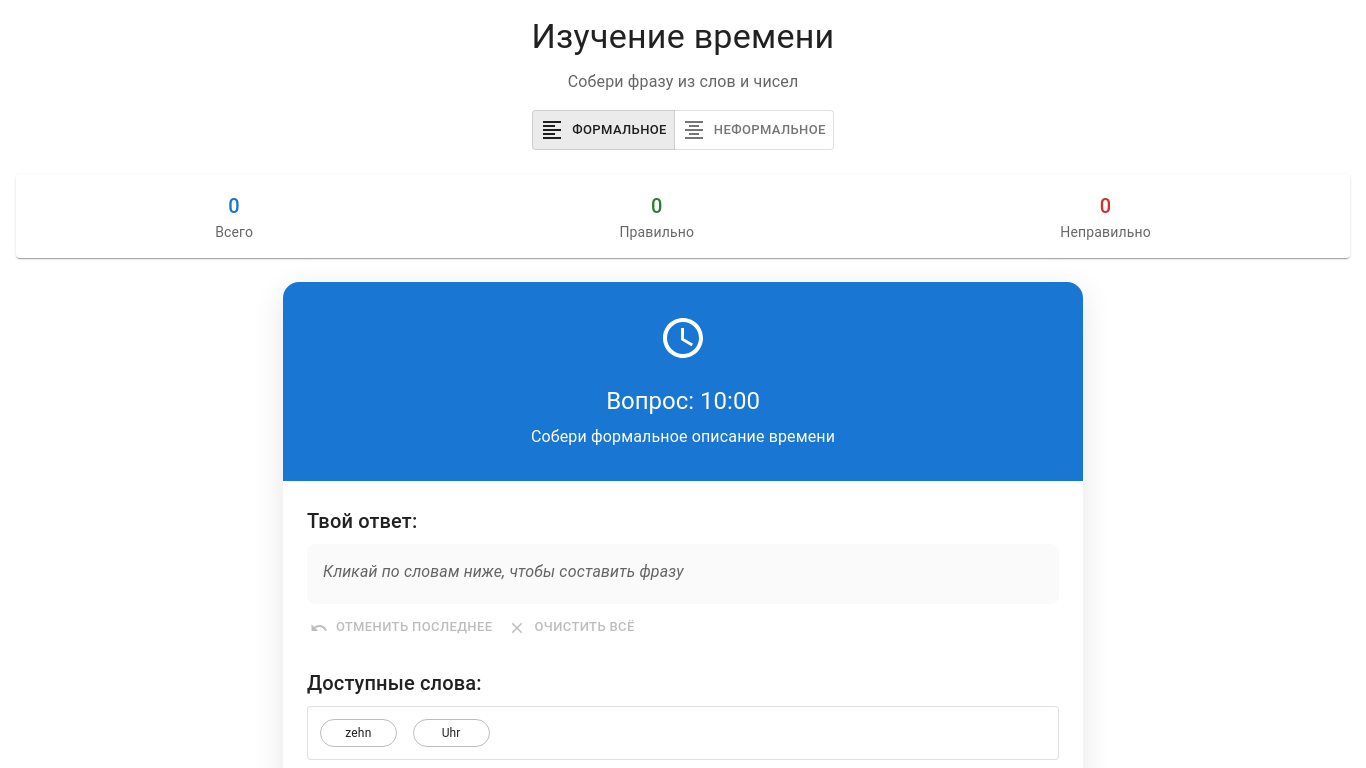
Test: TimeTraining statistics and request ordering › request error leaves stats unchanged
Expected: the heading "Вопрос: 10:00" is shown, [606,387,760,415]
Click the button "zehn".
click(358, 733)  # box [320,719,397,747]
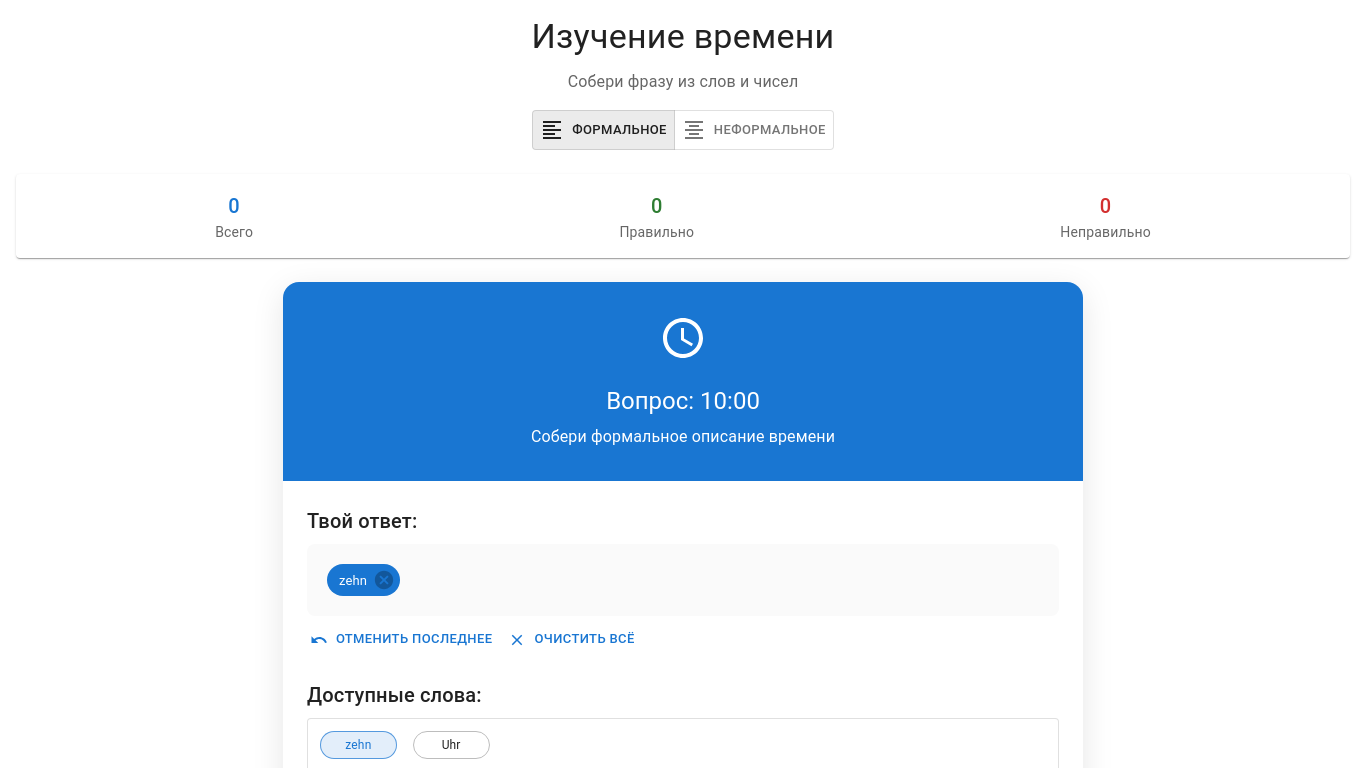
Click the button "Uhr".
click(451, 745)  # box [413,731,490,759]
(page scrolled)
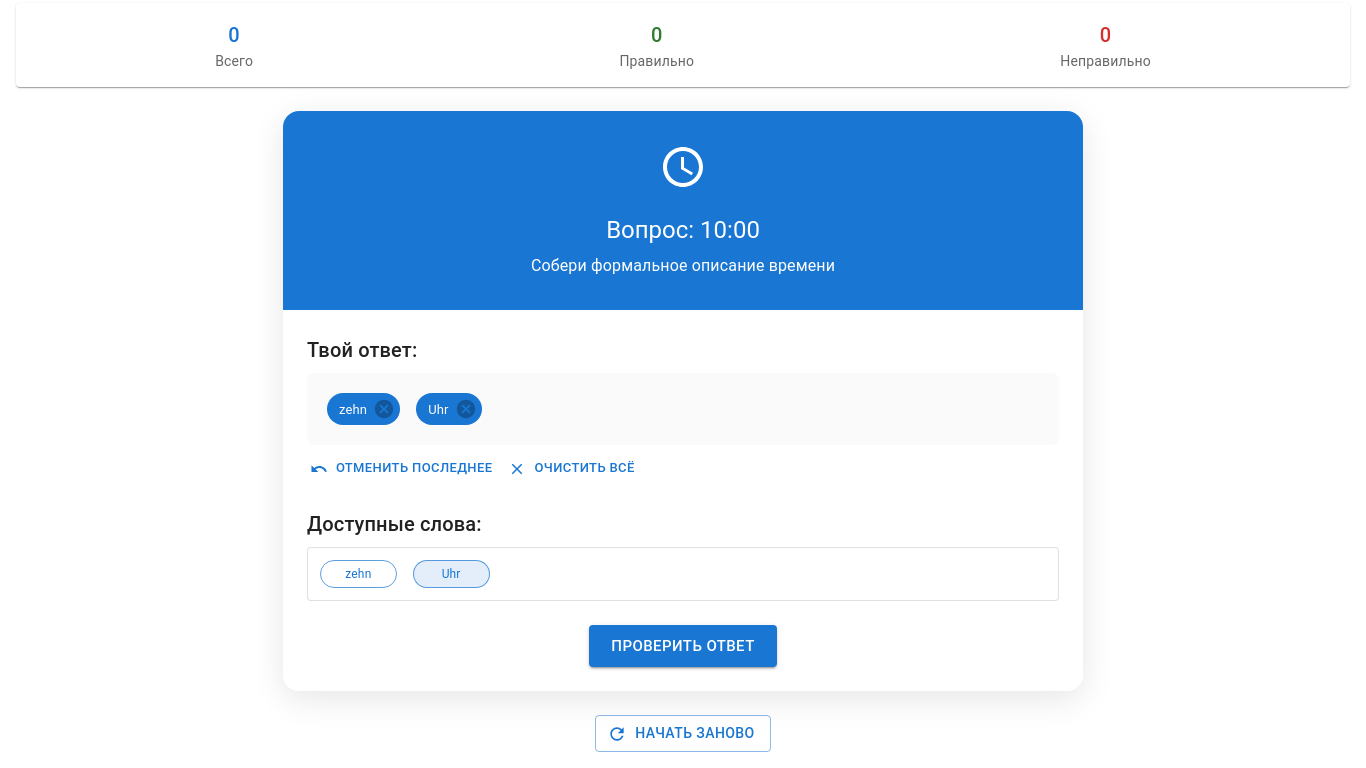
Click the button "Проверить ответ".
click(683, 646)  # box [589,625,777,667]
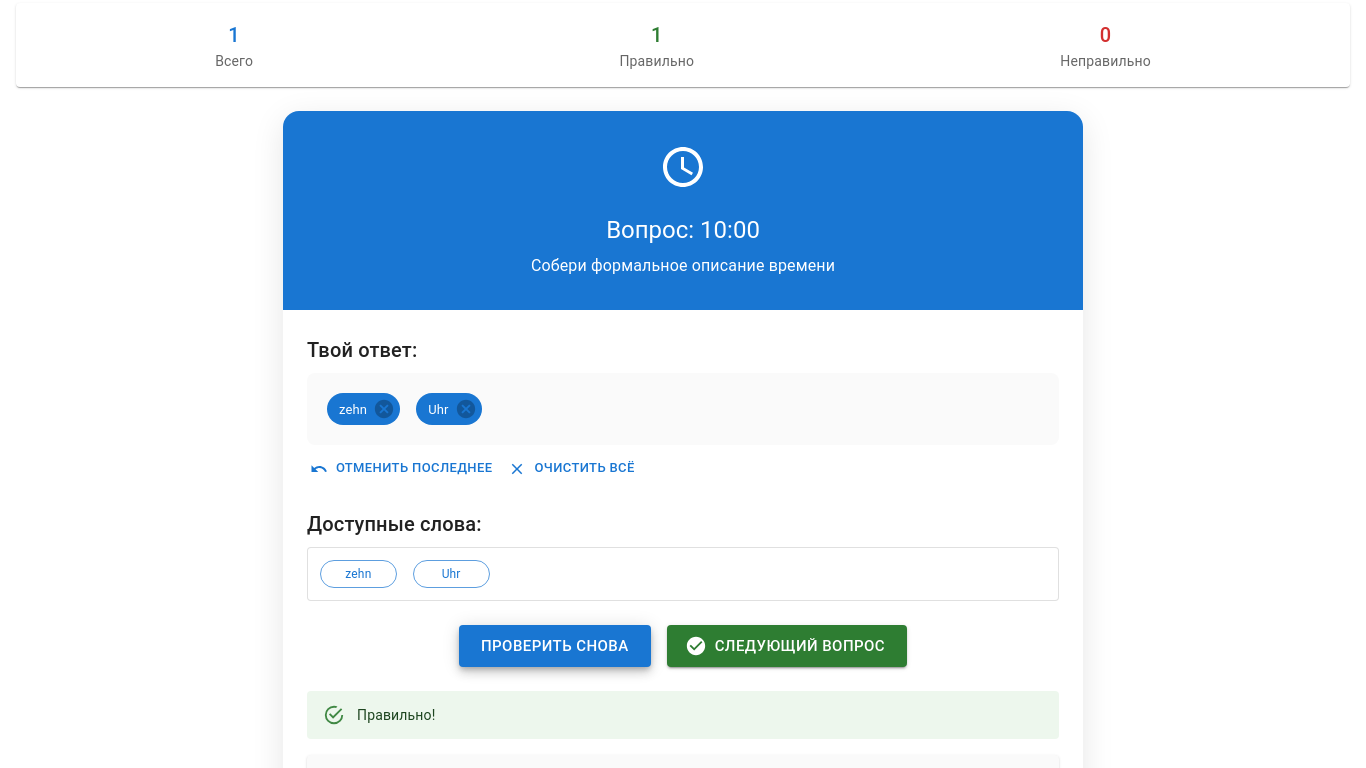
Click the button "Следующий вопрос".
click(787, 646)  # box [667,625,907,667]
(page scrolled)
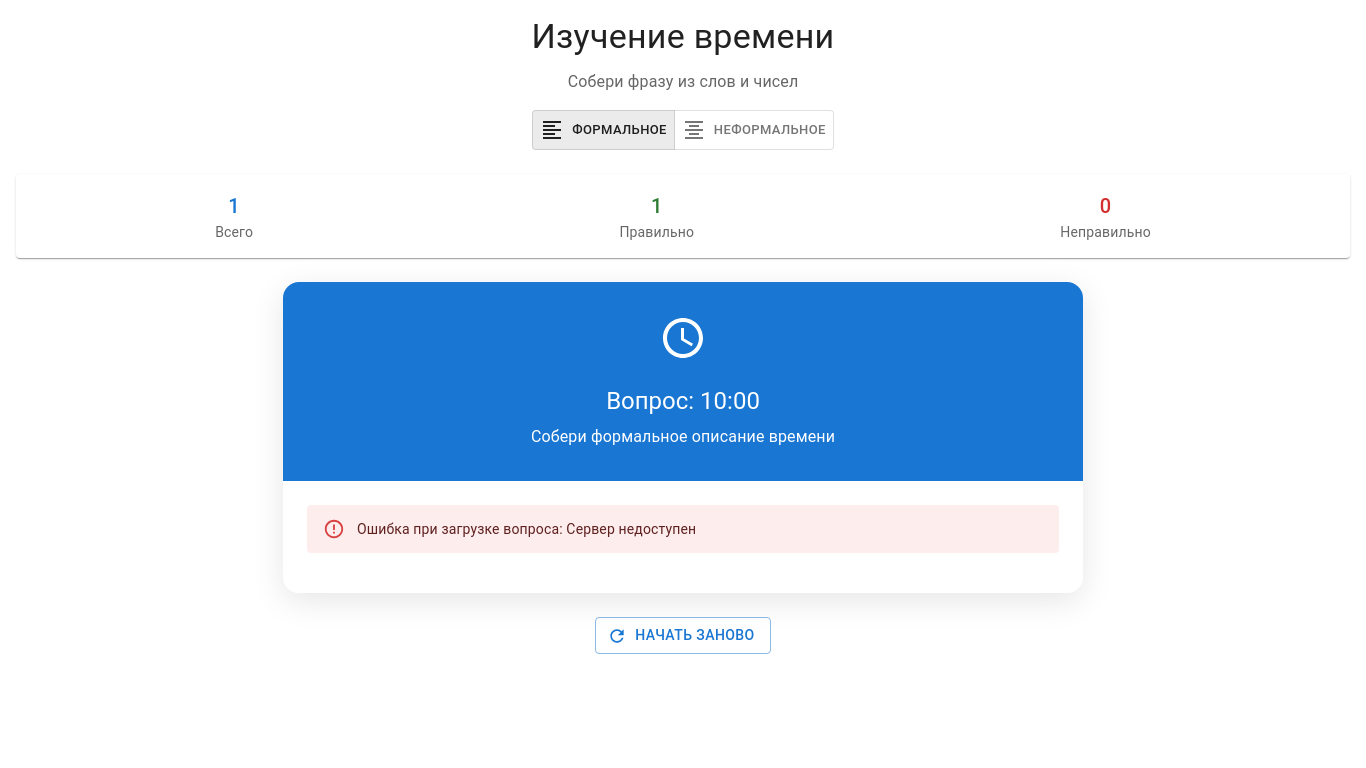
Expected: the text "Ошибка при загрузке вопроса: Сервер недоступен" is shown, [357,521,696,537]
